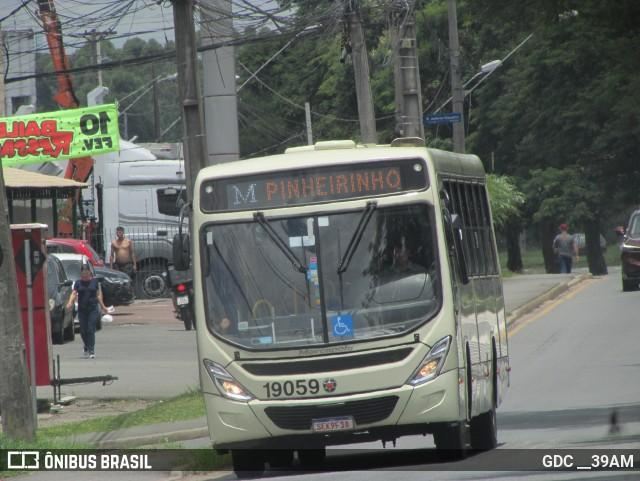PINHEIRINHO: (261, 164, 405, 204)
